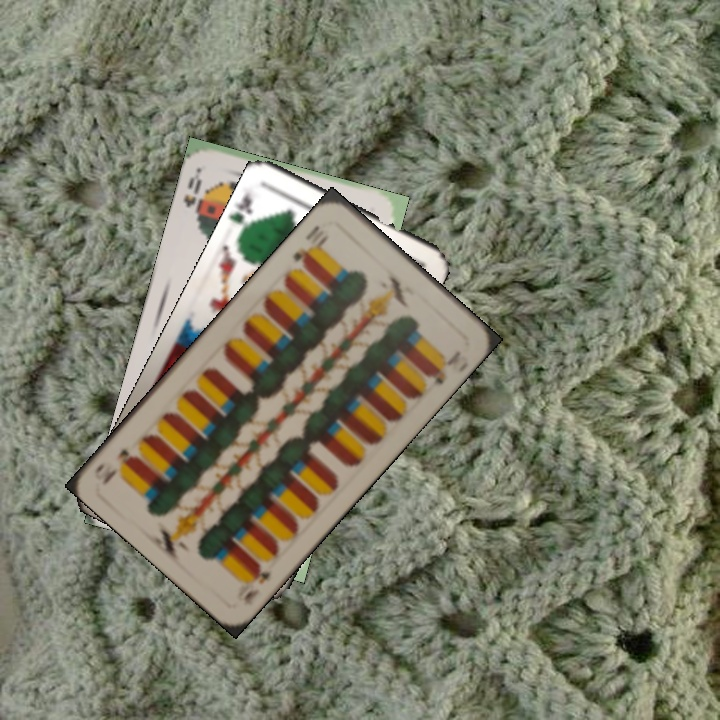E10: (289, 221, 332, 269), (232, 560, 274, 608)
GK: (227, 188, 257, 237)
SO: (179, 165, 208, 226)
